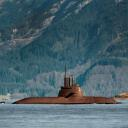submarine: (11, 55, 121, 104)
